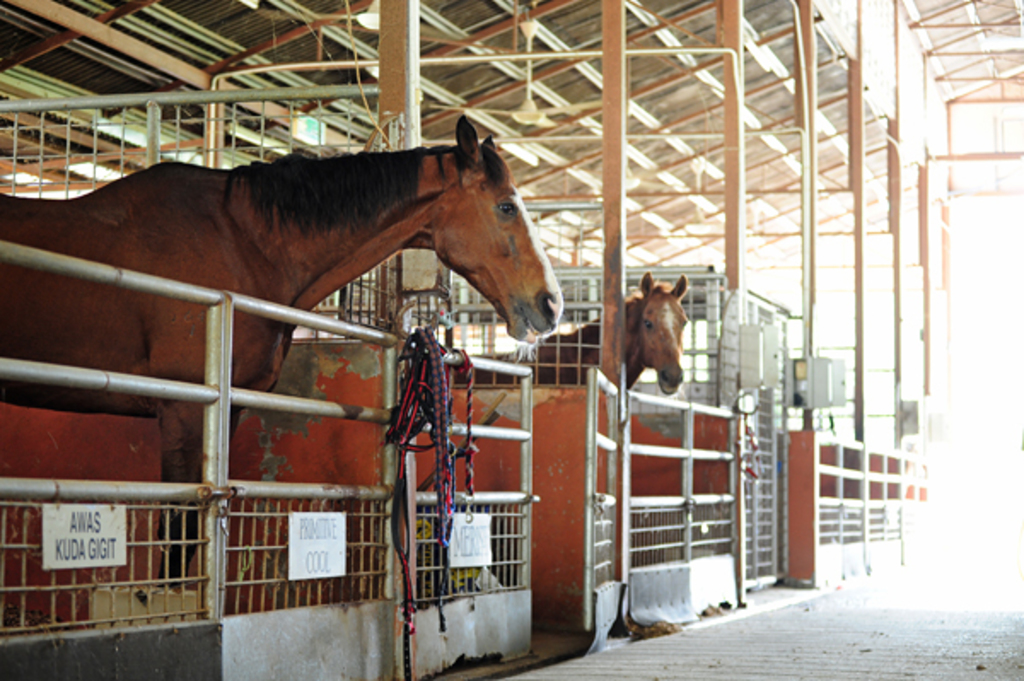Horse: (0, 114, 563, 587), (432, 271, 696, 396)
